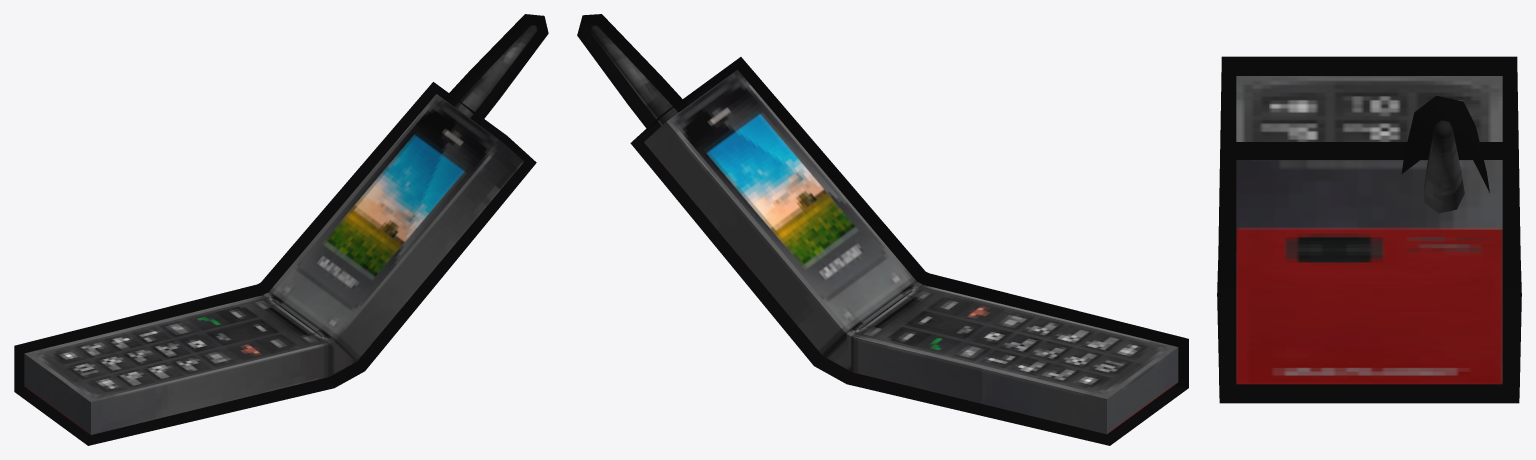
Rendered from Cllr flip.glb.
3 renders of one model, left to right at view 1: azimuth 30°, elevation 25°; view 2: azimuth 150°, elevation 25°; view 3: azimuth 270°, elevation 25°, orthographic. The views are drawn at different scales.
Parts seen in each view (by area): view 1: Celular flip; view 2: Celular flip; view 3: Celular flip.
Boxes of the visible parts, bbox=[...] form: Celular flip: bbox=[14, 14, 548, 445]; Celular flip: bbox=[577, 14, 1188, 445]; Celular flip: bbox=[1217, 56, 1521, 403].
Size of the model in its own units: 1.5 by 0.7559 by 0.3863.
Materials: 2 (1 with a texture image).
